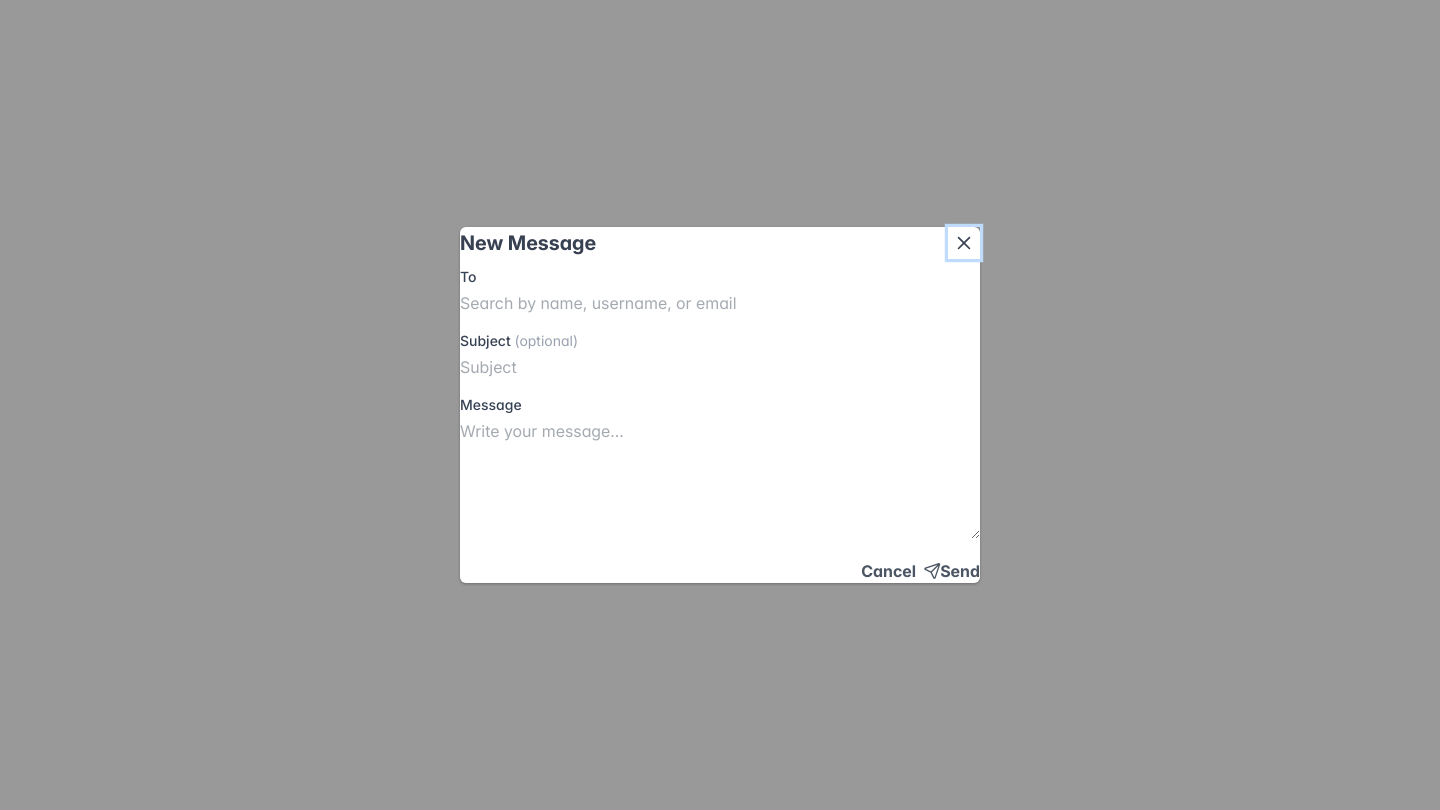
Test: ComposeModal › shows error message when createMessage fails
In the dropdown with placeholder "Search by name, username, or email": (720,303) [460,291,980,315], type "bob"
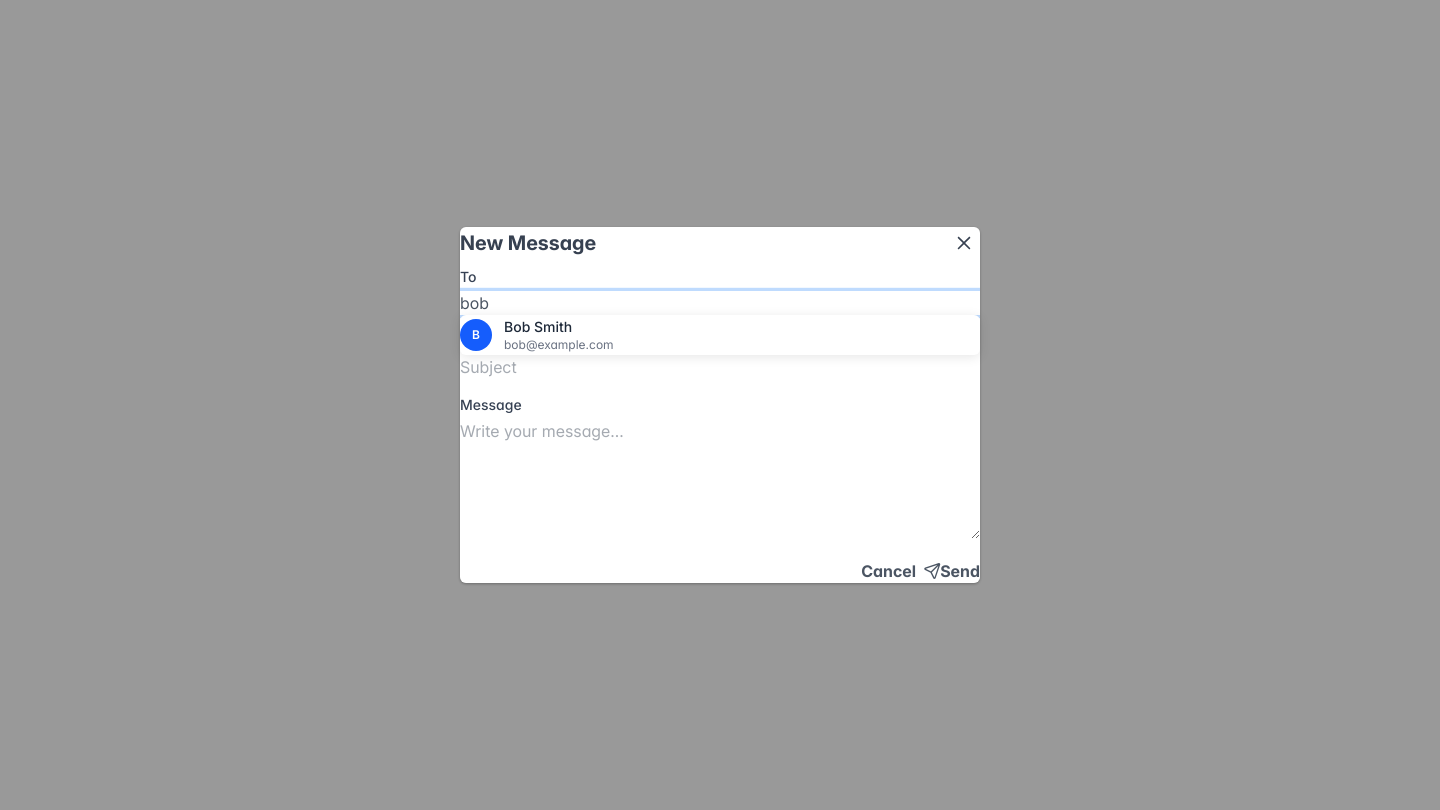
Check: the text "Bob Smith" is shown
Click the text "Bob Smith": (538,326) [504,318,572,335]
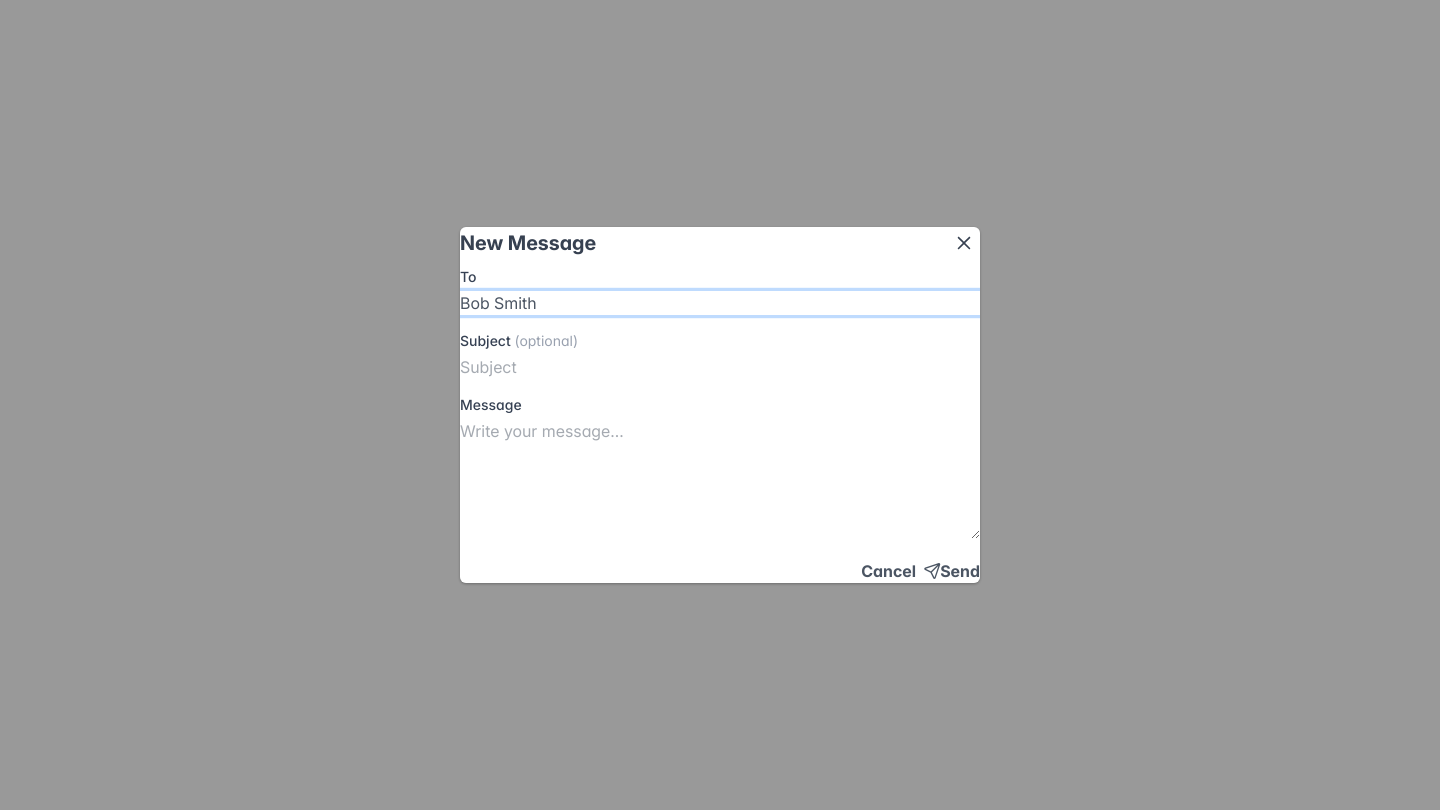
In the text box with placeholder "Write your message…": (720,479) [460,419,980,539], type "Hello"
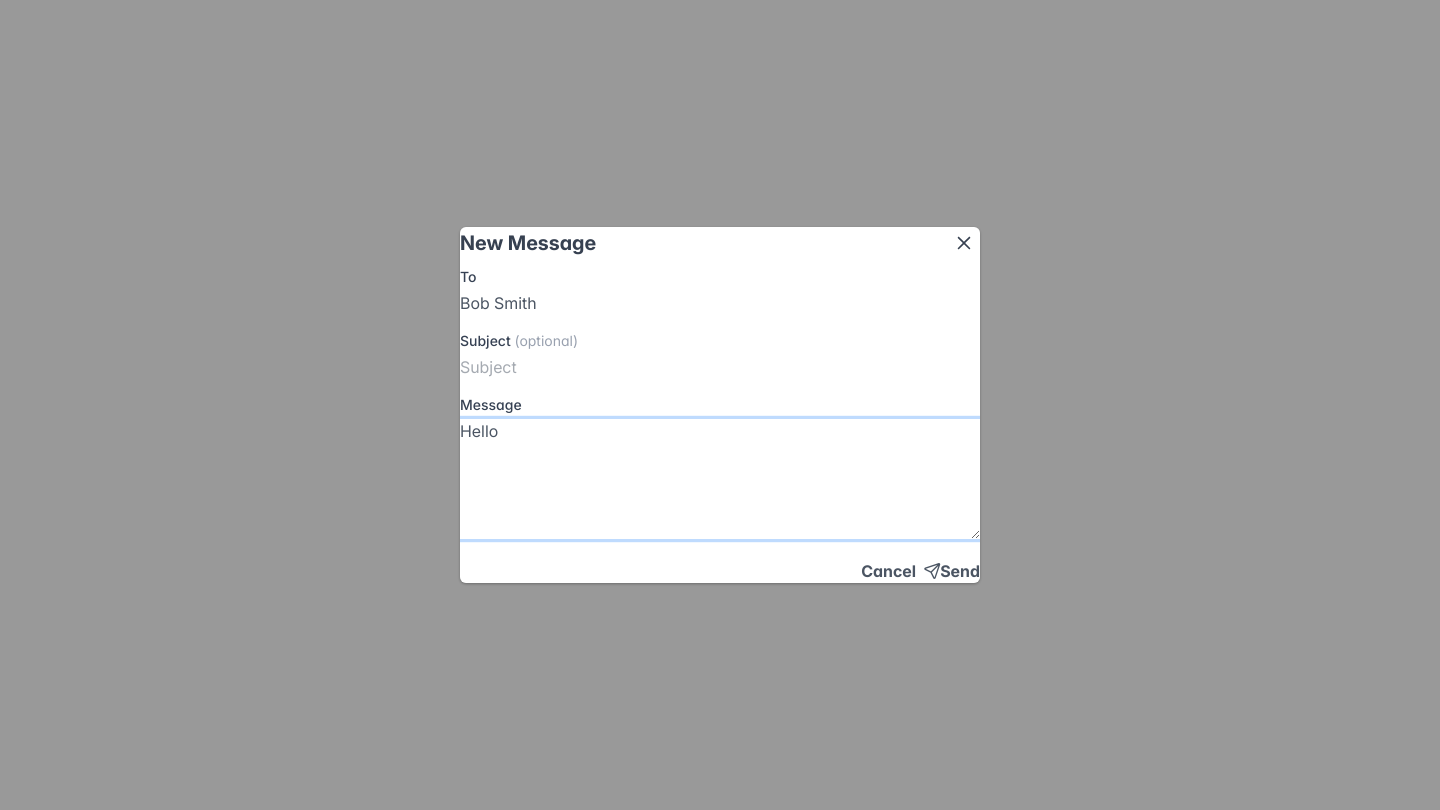
Click the button "Send": (952,571) [924,559,980,583]
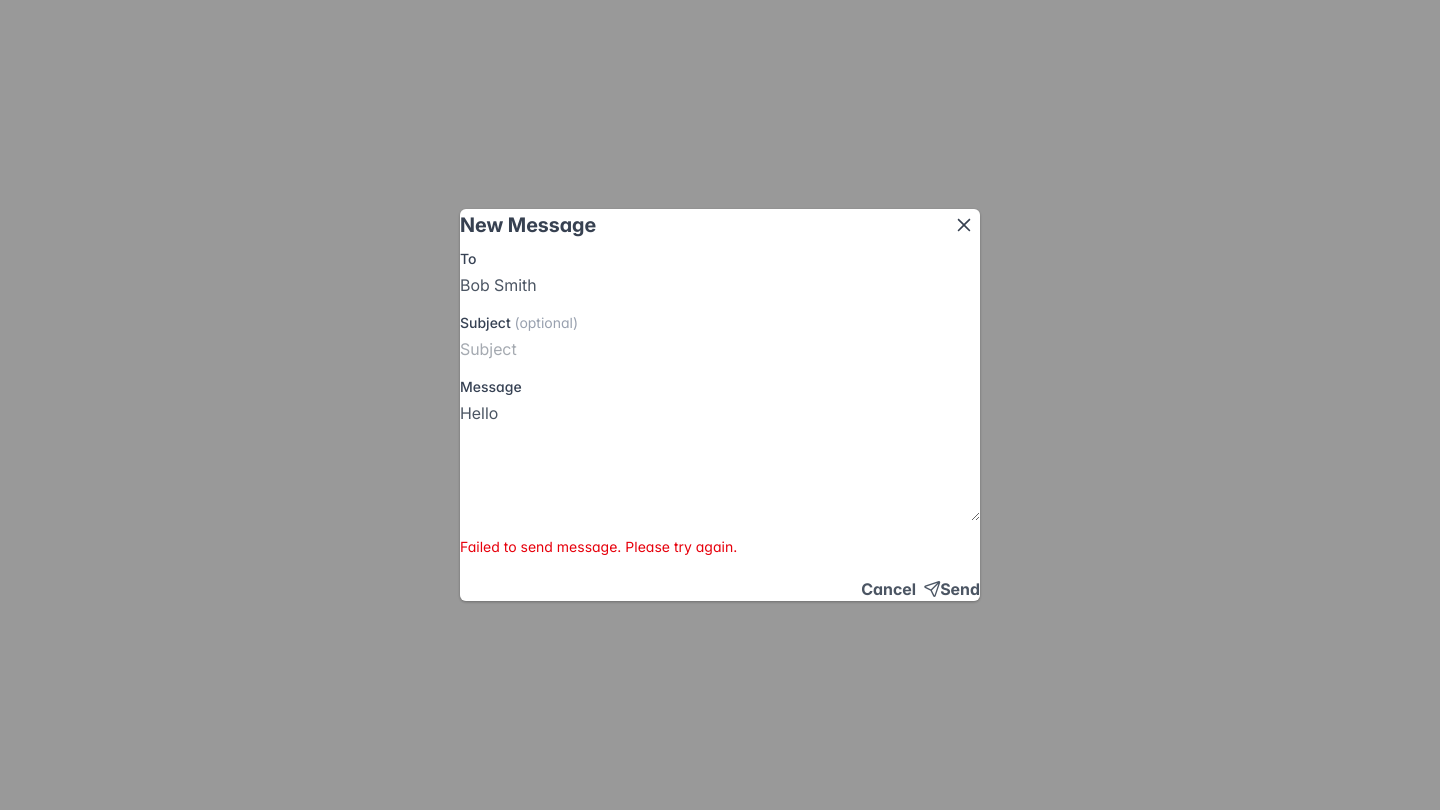
Check: the message shows "Failed to send message", box [460,538,737,555]
